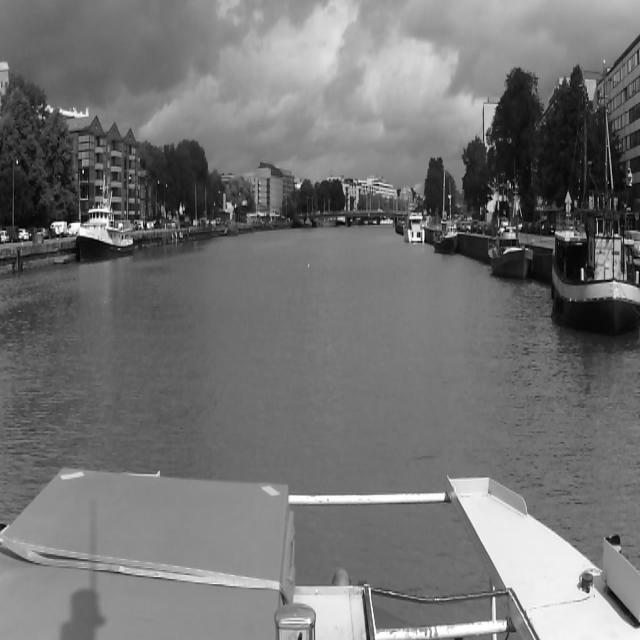ship: (555, 206, 637, 331), (68, 166, 136, 262), (429, 161, 462, 252), (489, 224, 531, 279), (405, 210, 426, 242), (226, 218, 240, 234), (294, 217, 306, 227), (304, 218, 312, 228)
